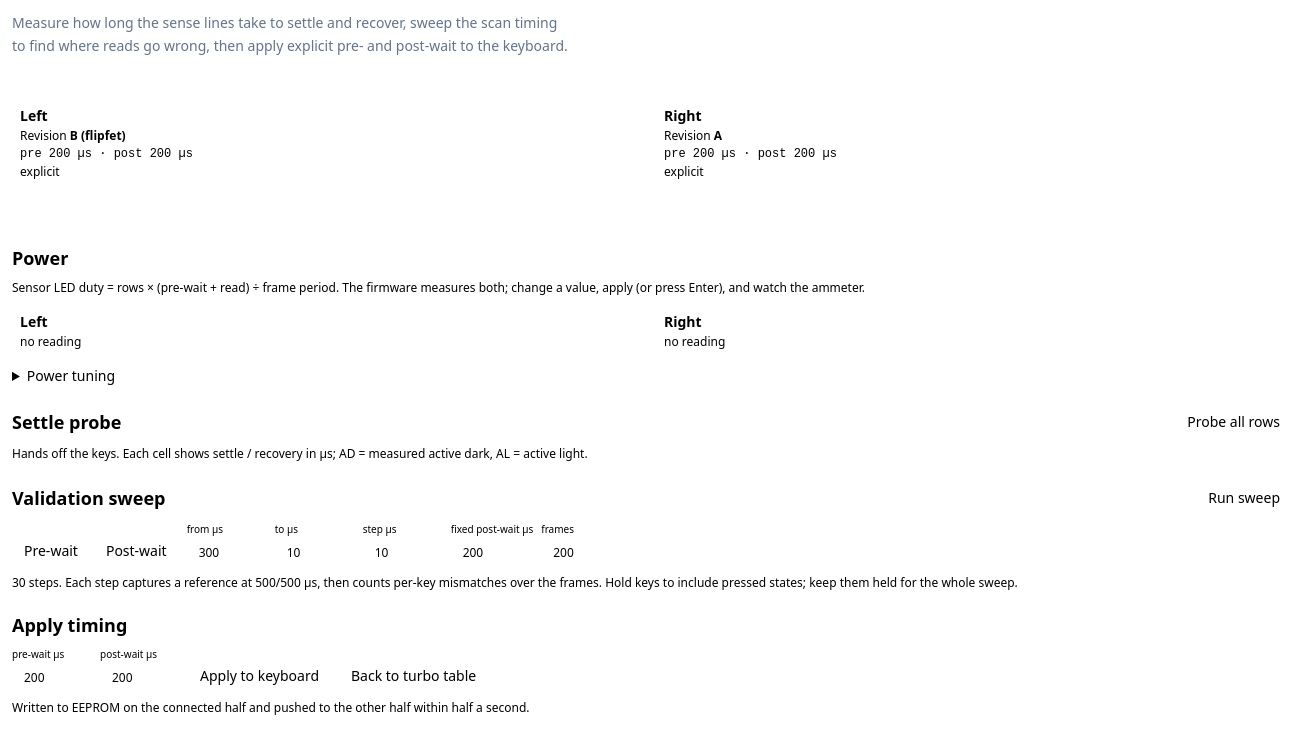
Scenario: ScanLabPanel › probes every reachable hand and summarises the slowest settle and recovery
The image size is (1304, 731).
Click the button "Probe all rows".
click(1234, 422)  # box top-left (1175, 406), bottom-right (1292, 438)
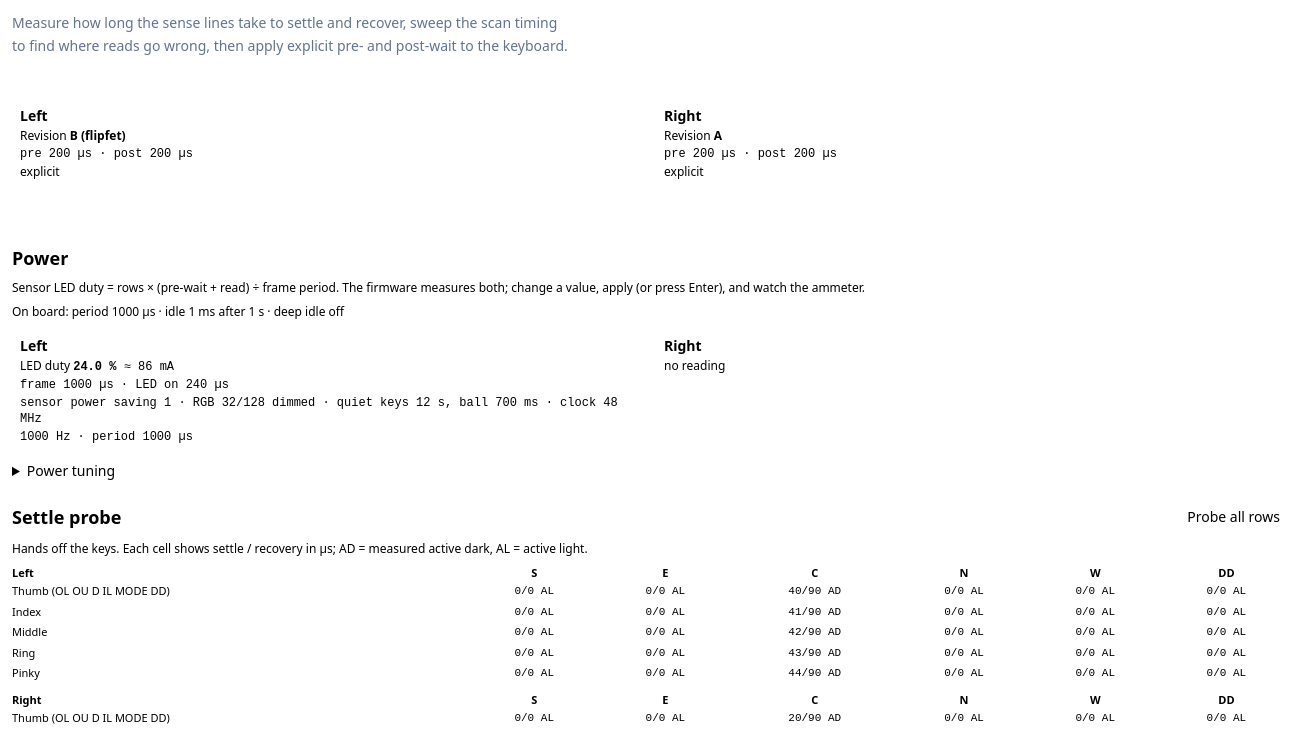
expect the table with test id "probe-0" shows "44/90": met, box top-left (788, 667), bottom-right (821, 679)
